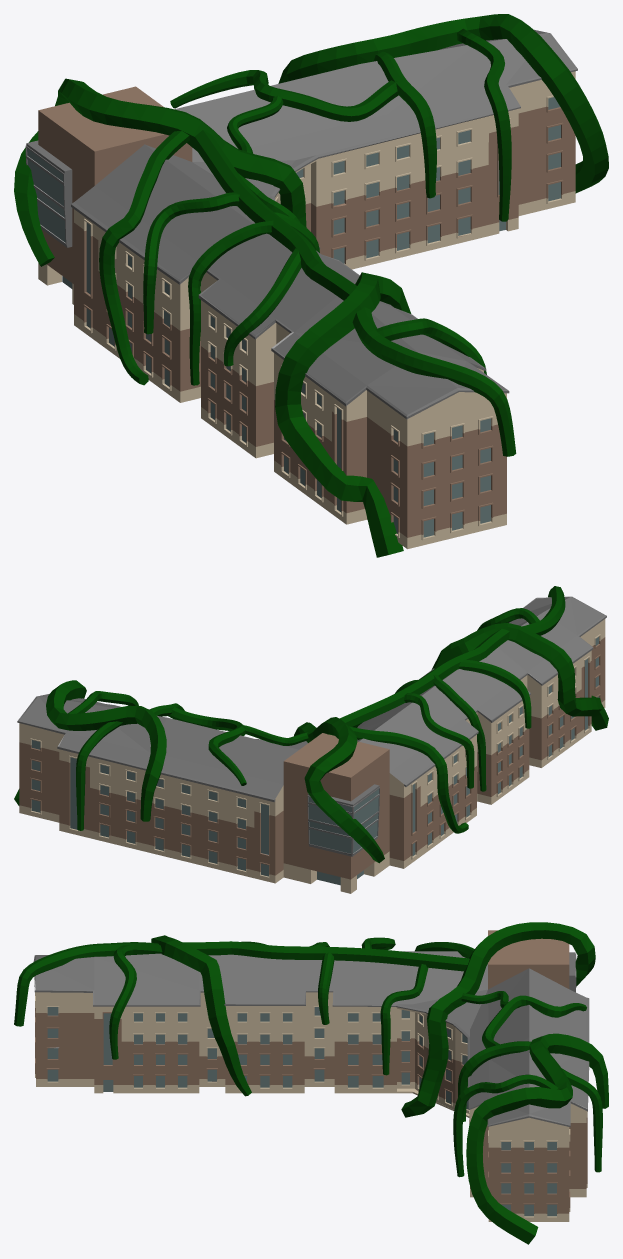
The model's file is Ireland_Vines.fbx.
The picture shows the model from 3 angles, top to bottom: view 1: azimuth 30°, elevation 25°; view 2: azimuth 150°, elevation 25°; view 3: azimuth 270°, elevation 25°; orthographic projection. The views are drawn at different scales.
Visible parts, largest first — view 1: Ireland_House, Vines_Mesh; view 2: Ireland_House, Vines_Mesh; view 3: Ireland_House, Vines_Mesh.
Boxes of the visible parts, x1,y1,x2,y2 form: Ireland_House: (25, 29, 577, 549); Vines_Mesh: (14, 14, 608, 557); Ireland_House: (17, 596, 606, 893); Vines_Mesh: (14, 586, 608, 863); Ireland_House: (33, 930, 589, 1221); Vines_Mesh: (14, 922, 608, 1244).
Bounding box in the file's own units: 14.35 × 5.32 × 18.35.
